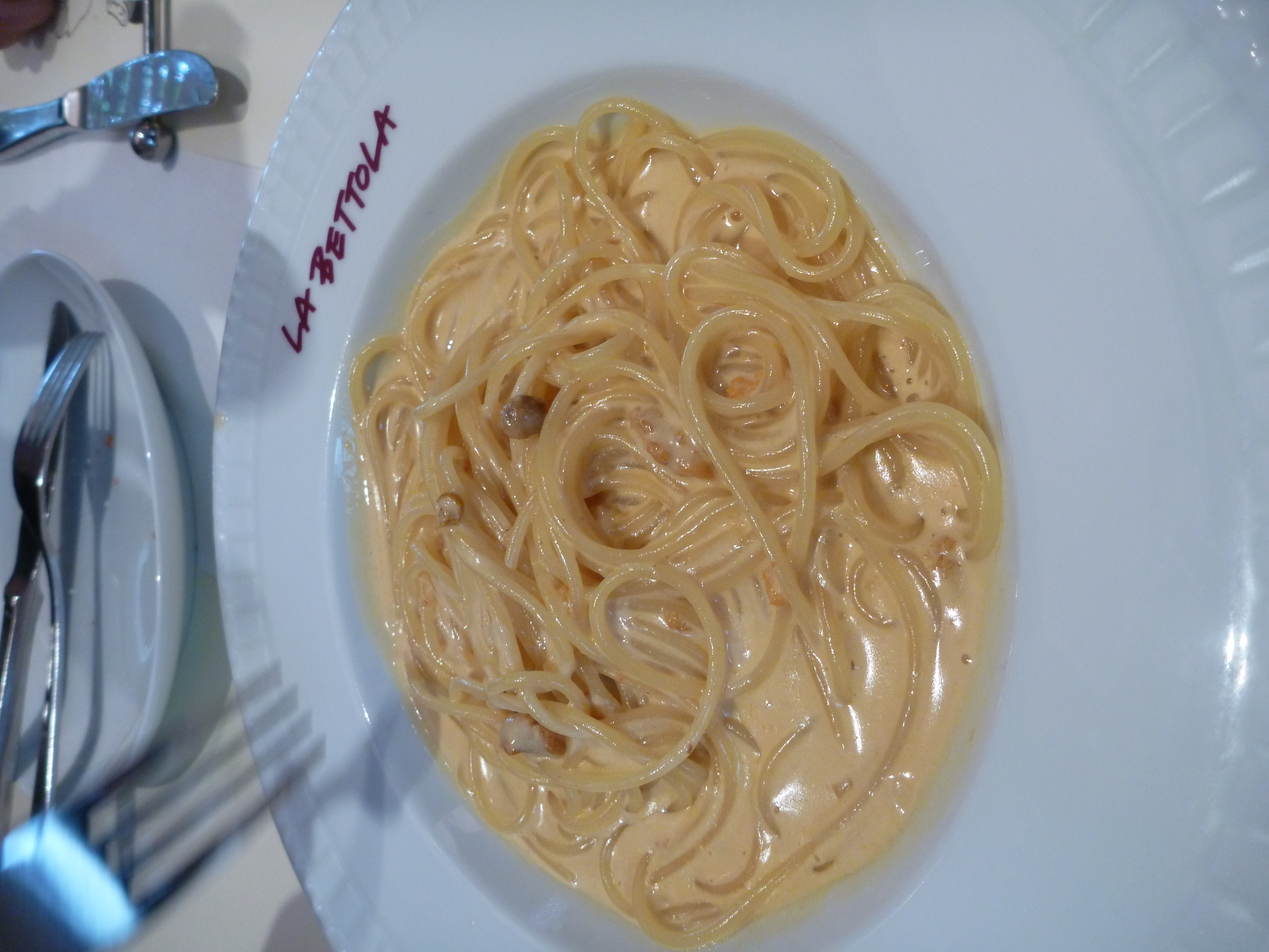pasta: (312, 70, 1026, 952)
